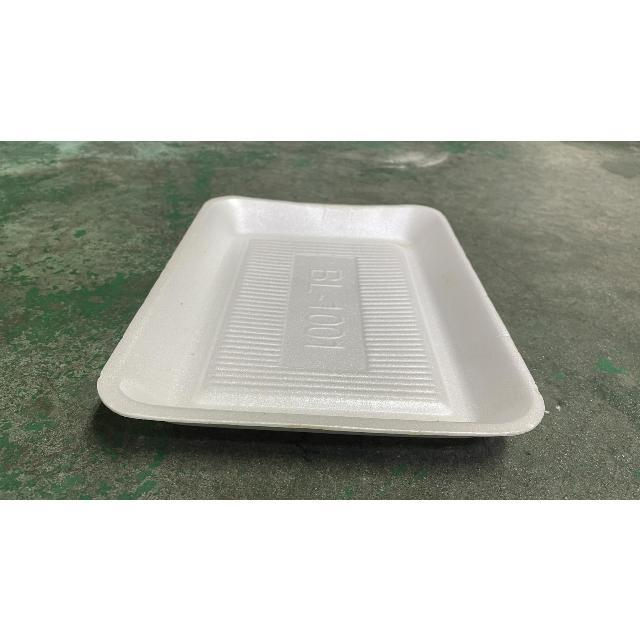Recipiente plastico: (98, 196, 544, 436)
